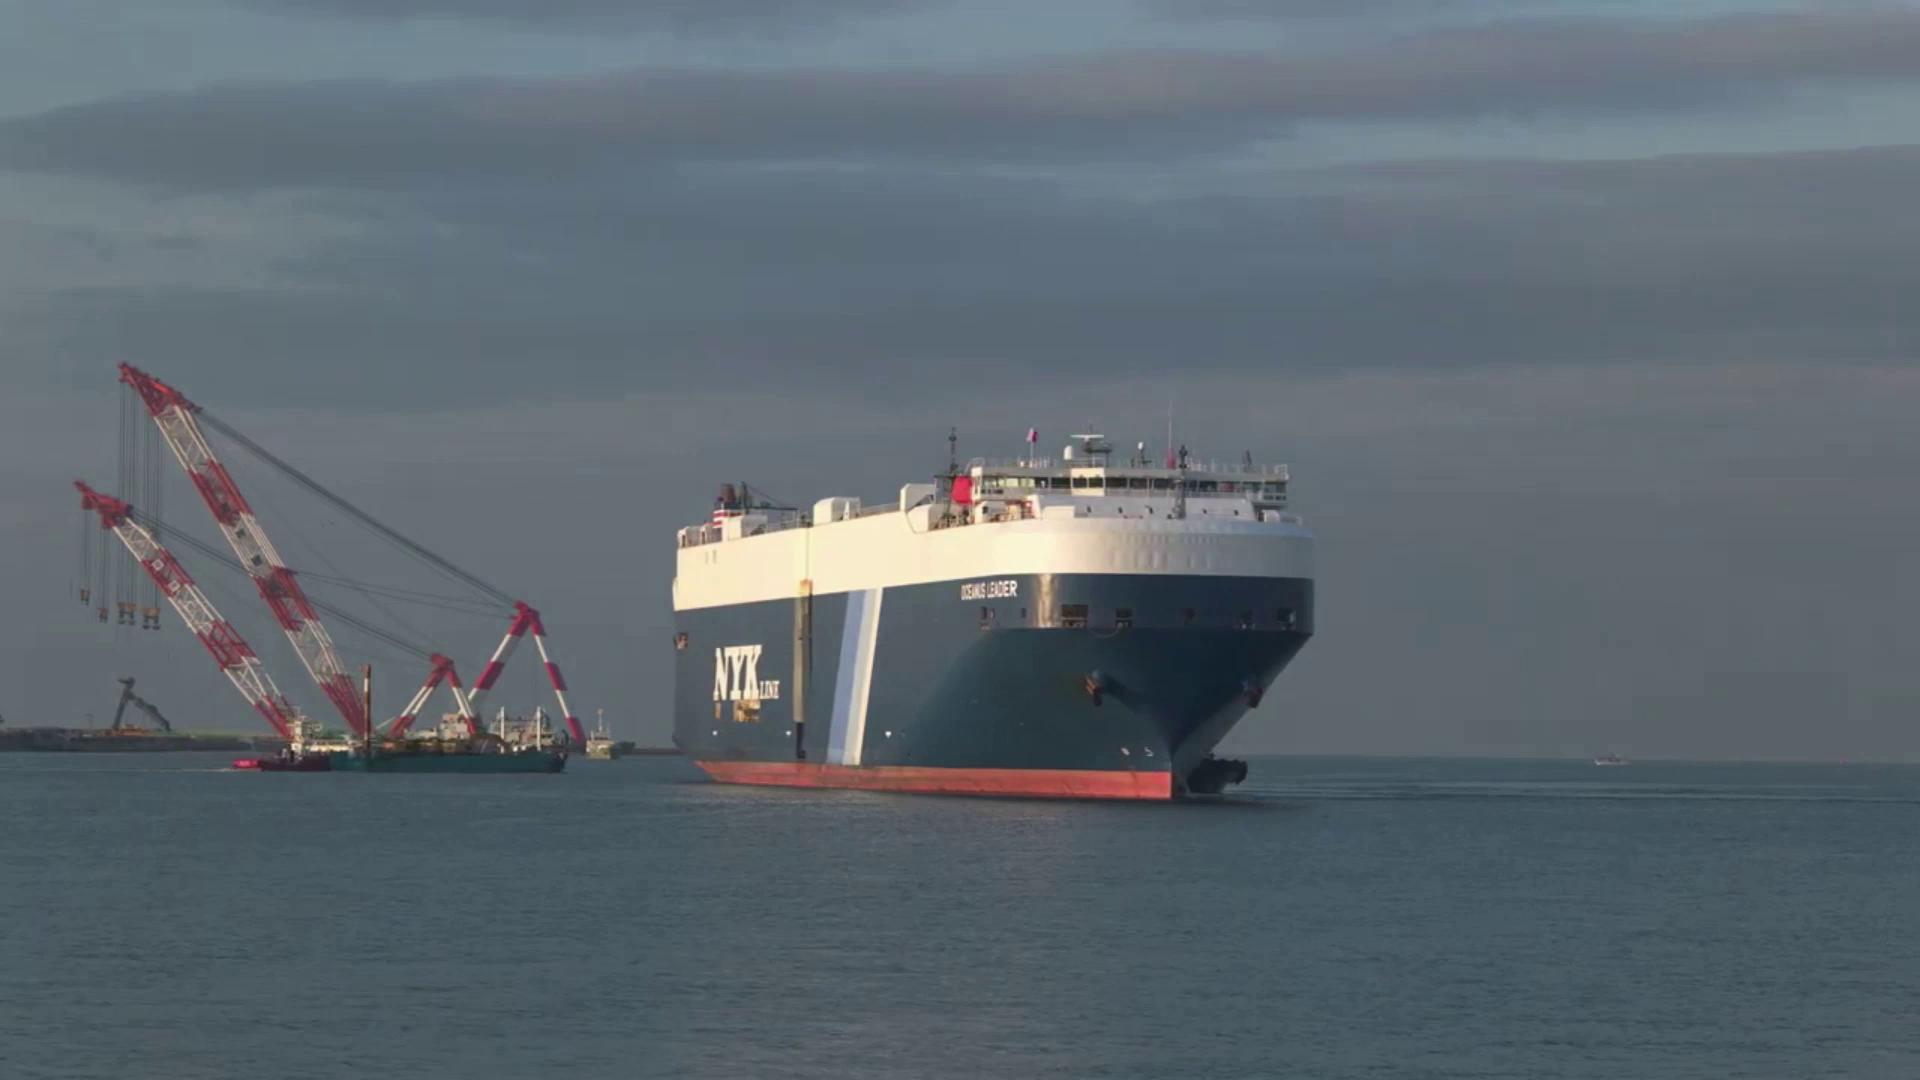OCR: (704, 634, 785, 705), (955, 578, 1023, 607)
